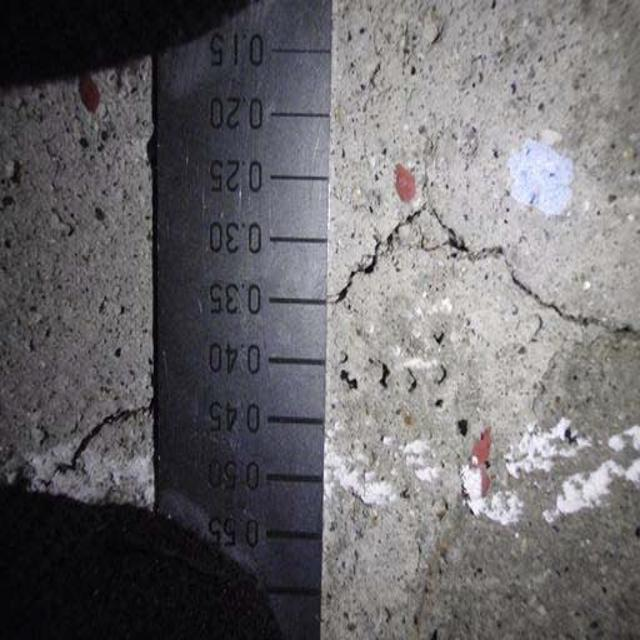crack: (333, 181, 640, 366), (24, 386, 156, 490)
